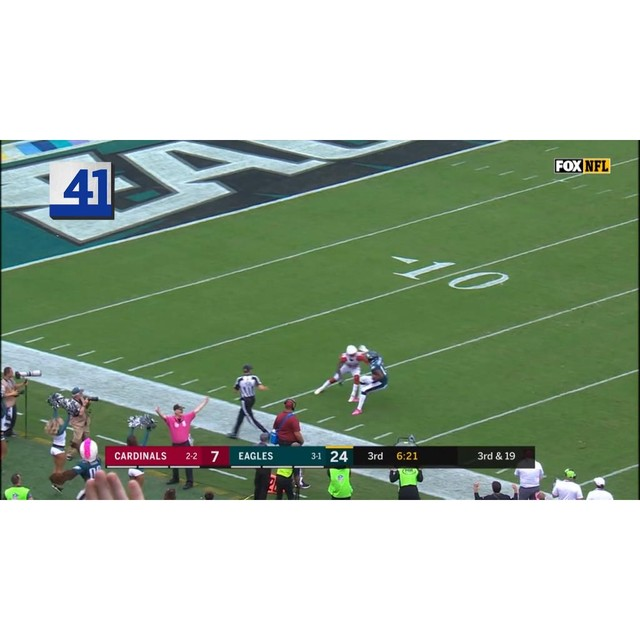american-football-player: (314, 344, 368, 399), (350, 351, 390, 414)
referee: (225, 363, 270, 440)
